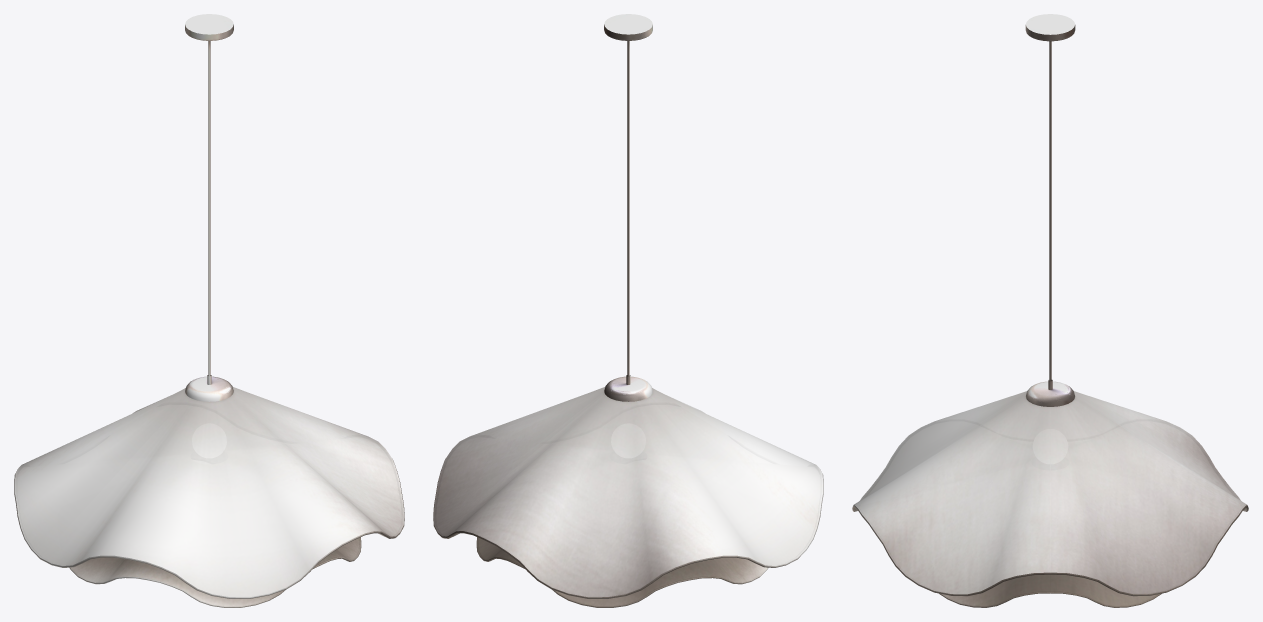
Rendered from pendantlight.glb.
3 views of the same model, side by side, from view 1: azimuth 30°, elevation 25°; view 2: azimuth 150°, elevation 25°; view 3: azimuth 270°, elevation 25° (orthographic).
Parts seen in each view (by area): view 1: polySurface3, chord; view 2: polySurface3, chord; view 3: polySurface3, chord.
Part boxes in pixels (x1,y1,x2,y2): polySurface3: (14,387,404,607); chord: (185,14,233,401); polySurface3: (433,387,823,607); chord: (604,14,652,401); polySurface3: (852,391,1248,607); chord: (1025,14,1075,406).
Size of the model in its own units: 0.9 by 1.32 by 0.8989.
Materials: 3 (3 with a texture image).
